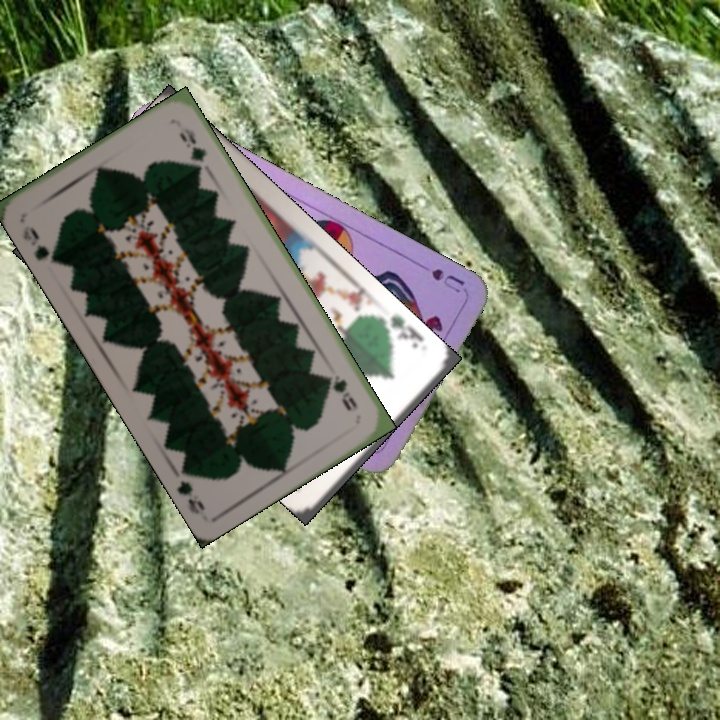G9: (18, 221, 61, 266), (322, 370, 360, 414)
GK: (380, 311, 427, 352)
SU: (411, 257, 467, 296)
